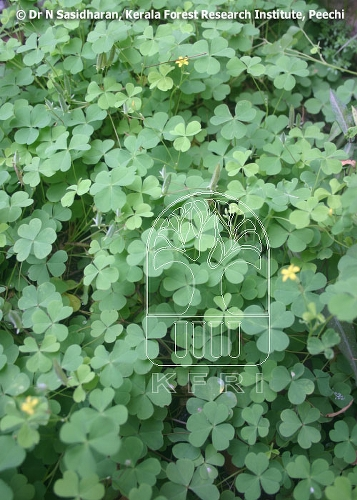oxalis: (6, 24, 357, 480)
